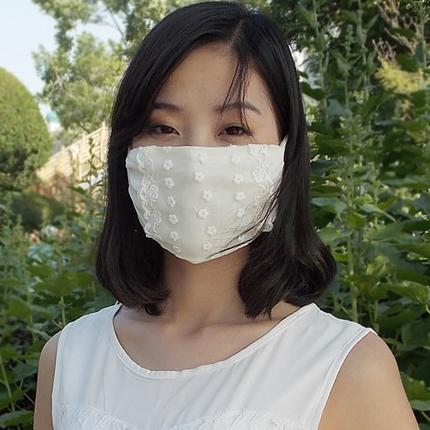OK: (125, 97, 288, 260)
